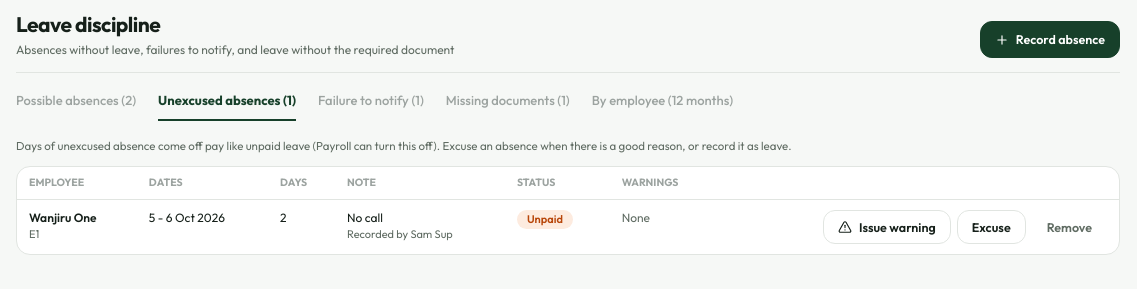
Test: Leave discipline page › HR: checks overdue documents on opening and lists the three cases
The image size is (1137, 289).
Expected: the text "Wanjiru One" is shown, x1=29 y1=210 x2=96 y2=224
Expected: the button "Unexcused absences (1)" is shown, x1=158 y1=91 x2=296 y2=120
Click the button "Failure to notify (1)": {"x": 371, "y": 106} x1=318 y1=91 x2=424 y2=120
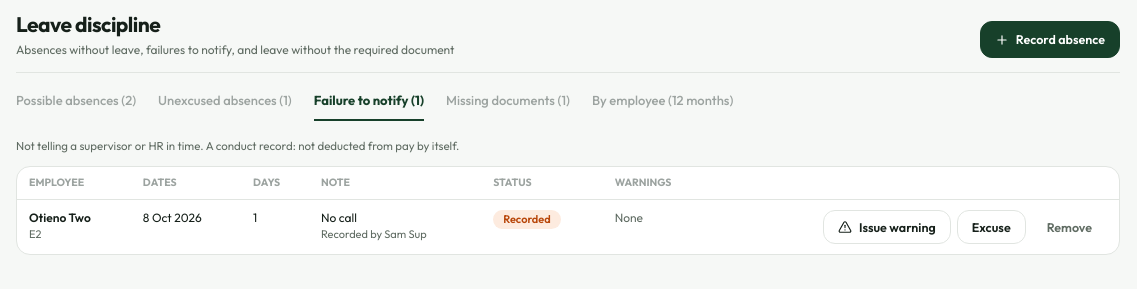
Now the text "Otieno Two" is shown, box x1=29 y1=210 x2=91 y2=224
Click the button "Missing documents (1)": {"x": 508, "y": 106} x1=446 y1=91 x2=570 y2=120
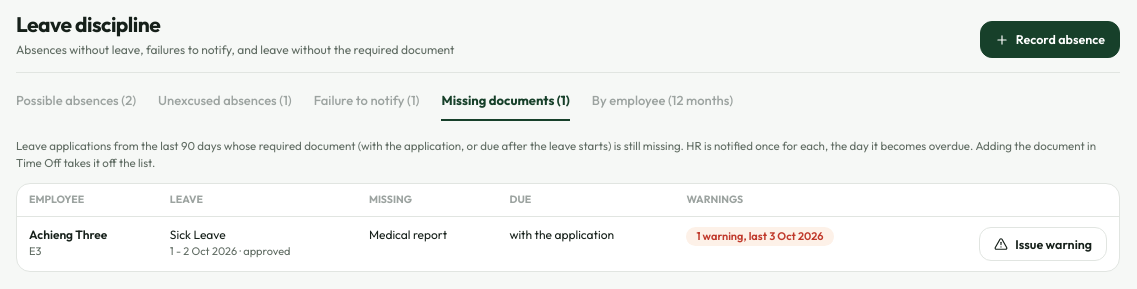
Now the text "Achieng Three" is shown, box x1=29 y1=227 x2=107 y2=242
Now the text "with the application" is shown, box x1=498 y1=216 x2=674 y2=271
Now the text "1 warning, last 3 Oct 2026" is shown, box x1=686 y1=227 x2=834 y2=246
Click the button "By employee (12 months)": {"x": 662, "y": 106} x1=592 y1=91 x2=733 y2=120
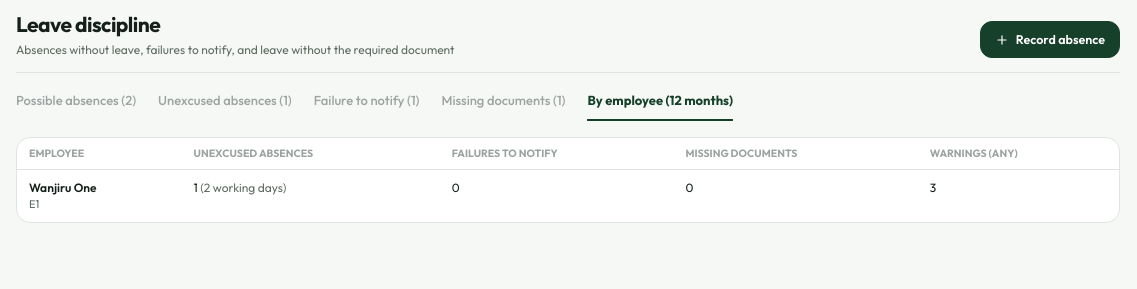
Now the text "3" is shown, box x1=918 y1=170 x2=1119 y2=222
Now the text "(2 working days)" is shown, box x1=198 y1=180 x2=286 y2=195
